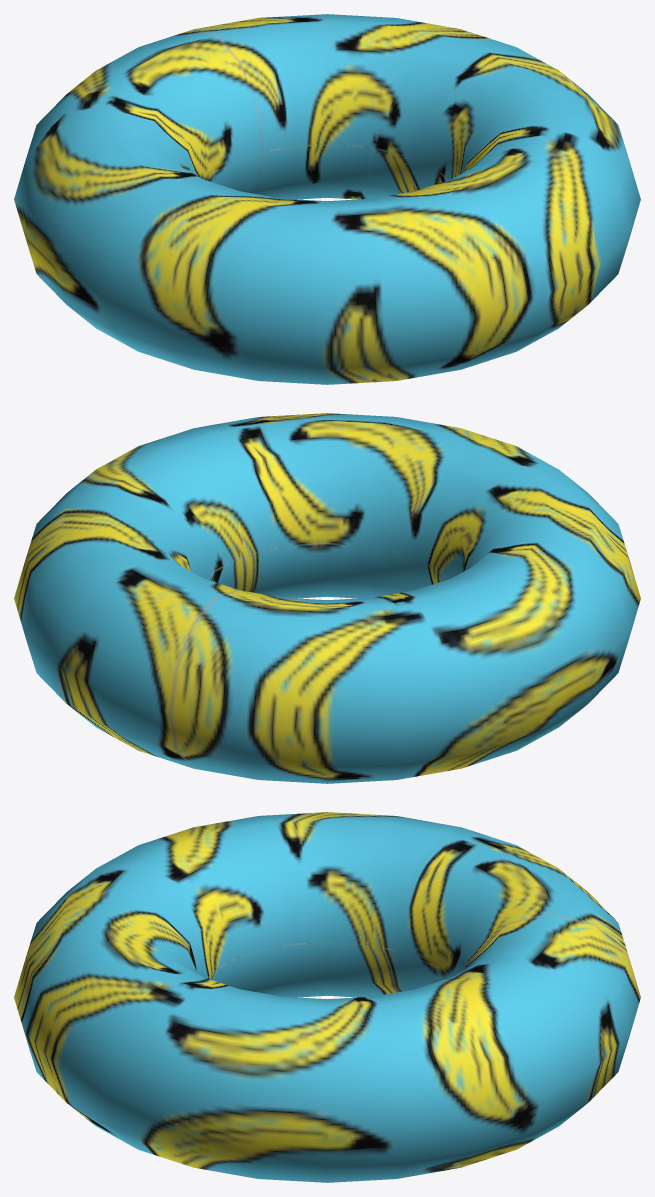
Rendered from BANANA.fbx.
3 views of the same model, one above another, from view 1: azimuth 30°, elevation 25°; view 2: azimuth 150°, elevation 25°; view 3: azimuth 270°, elevation 25° (orthographic).
Visible parts, largest first — view 1: FLOAT_BANANA; view 2: FLOAT_BANANA; view 3: FLOAT_BANANA.
Part boxes in pixels (left/top/right/bottom): FLOAT_BANANA: left=14, top=14, right=640, bottom=384; FLOAT_BANANA: left=14, top=413, right=640, bottom=783; FLOAT_BANANA: left=14, top=812, right=640, bottom=1182.
Bounding box in the file's own units: 170 × 50 × 170.
